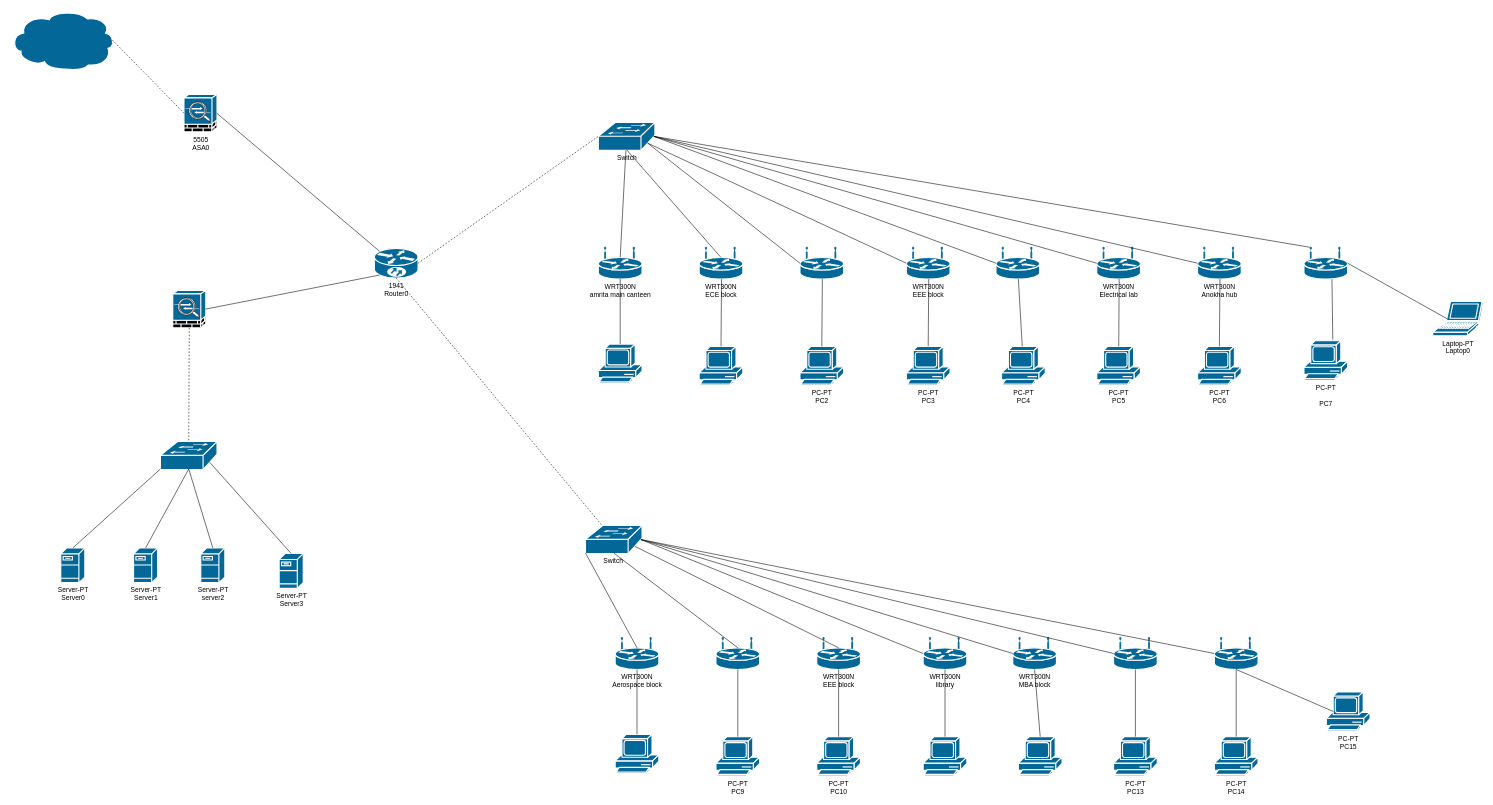
This 1493x805 diagram has some shape labels left out. The centre of each missing label's shape, as x and y in pixels:
5505 ASA1: (189,309)
cloud-PT cloud0: (62,40)
PC-PT PC0: (620,363)
PC-PT PC1: (720,366)
PC-PT PC11: (944,756)
PC-PT PC12: (1040,756)
PC-PT PC8: (636,754)
Swith2: (188,455)
WRT300N civil block: (737,653)
WRT300N computer lab: (1017,262)
WRT300N CSEblock: (821,262)
WRT300N Dispensary: (1325,262)
WRT300N Mechanical block: (1135,653)
WRT300N Mechanical workshop: (1236,653)
